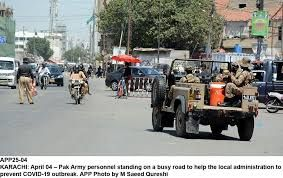uniform: (15, 61, 37, 107), (229, 68, 252, 107), (215, 63, 240, 85)
